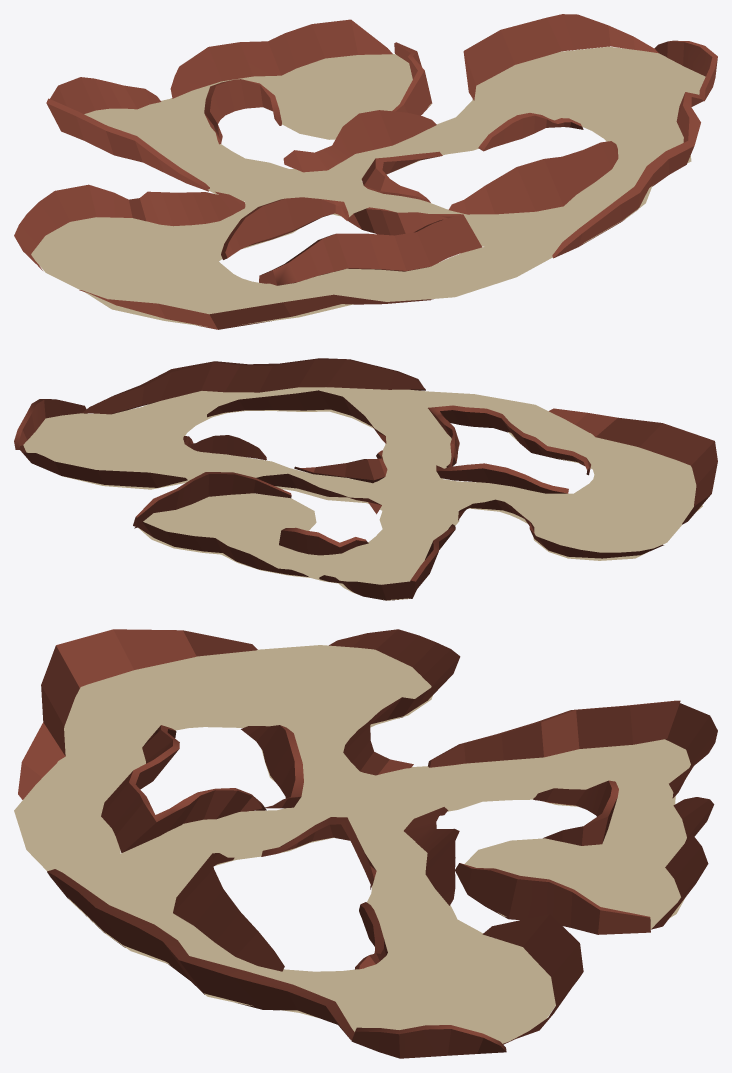
File: 4Caminos.fbx
3 renders of one model, top to bottom at view 1: azimuth 30°, elevation 25°; view 2: azimuth 150°, elevation 25°; view 3: azimuth 270°, elevation 25°, orthographic. The views are drawn at different scales.
Parts seen in each view (by area): view 1: Plane002, Wall2; view 2: Plane002, Wall2; view 3: Plane002, Wall2.
Part boxes in pixels (x1=…): Plane002: x1=31, y1=46, x2=705, y2=326; Wall2: x1=14, y1=14, x2=717, y2=329; Plane002: x1=23, y1=387, x2=702, y2=600; Wall2: x1=14, y1=358, x2=717, y2=600; Plane002: x1=14, y1=645, x2=690, y2=1043; Wall2: x1=18, y1=629, x2=717, y2=1058.
Bounding box in the file's own units: 83.73 × 4.66 × 59.88.
